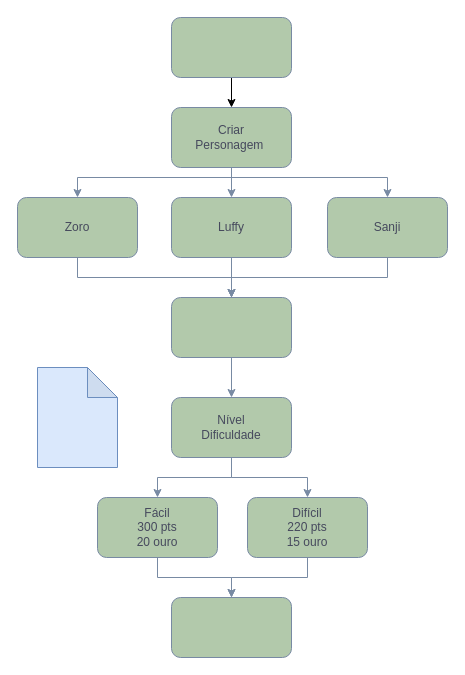
Image size: 465x675. Some labels were removed from this diagram. Each missing label, with the box of its shape:
1 pt = 1 hp 5 pts = 1 força: (36, 366, 118, 468)
Herói instanciado: (170, 596, 292, 658)
INTRO: (170, 16, 292, 78)
Personagem Escolhido: (170, 296, 292, 358)
